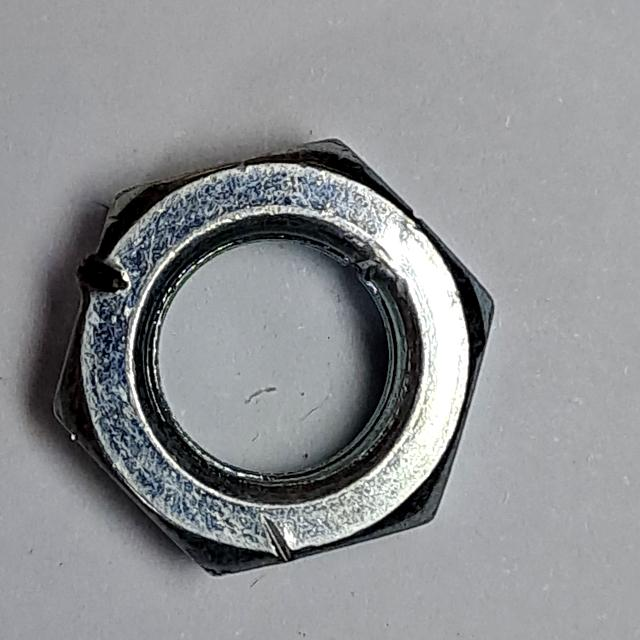Scratches: (42, 126, 527, 593)
